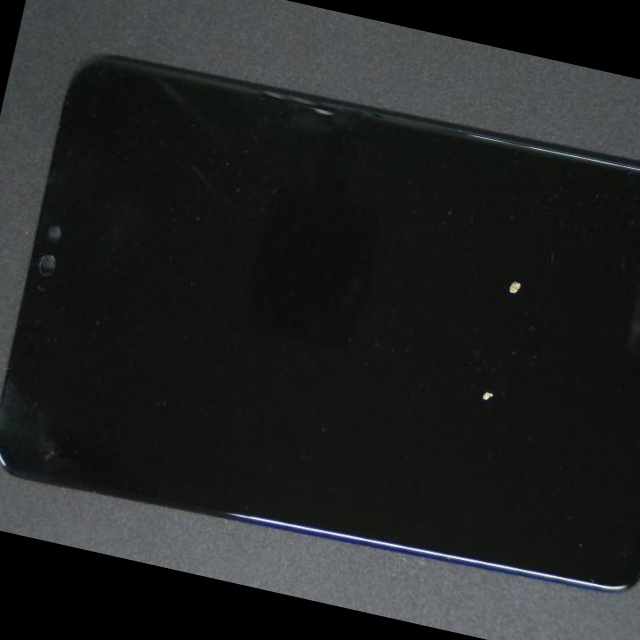stain: (216, 143, 640, 568), (246, 83, 640, 417)
